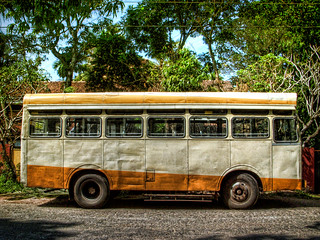bus: (19, 91, 303, 210)
